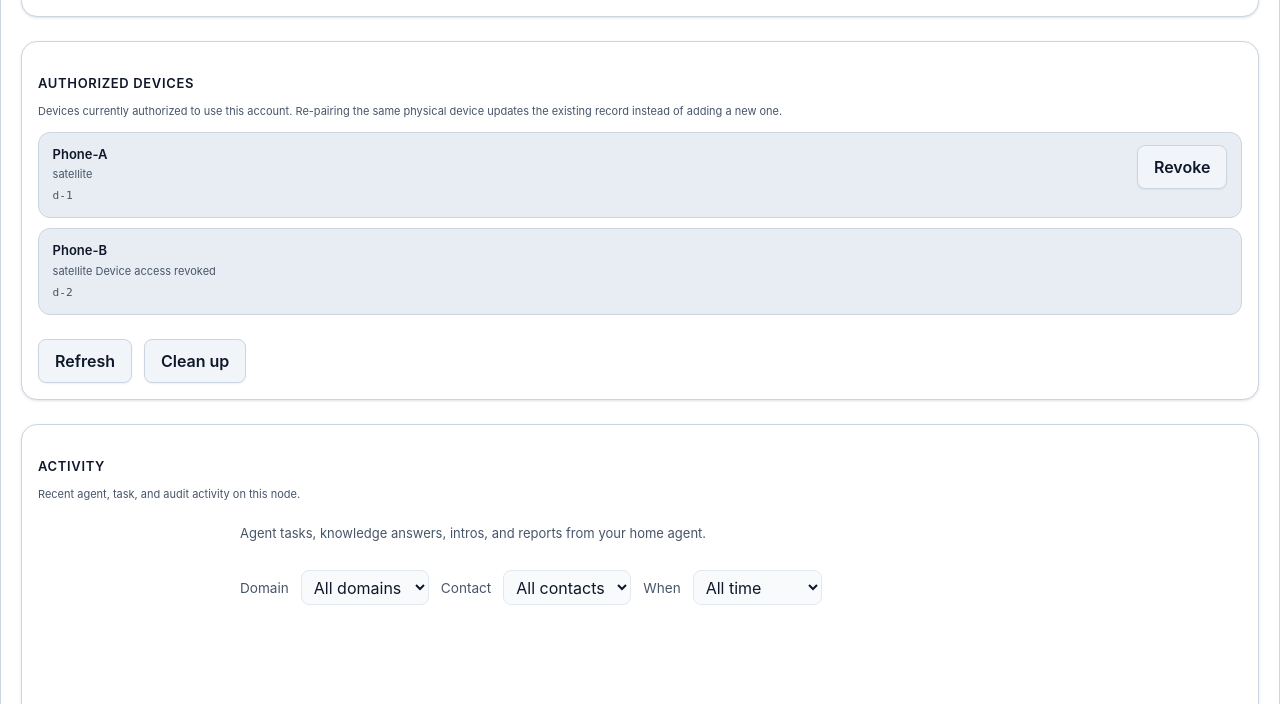
it: SettingsAppTab (Language / Appearance / Authorized Devices / Activity) › also prunes already-revoked entries from the list
The image size is (1280, 704).
(page scrolled)
Expected: the text "Phone-A" is shown, left=53, top=146, right=108, bottom=162
Click the button "Clean up" at point(195, 361), box left=144, top=339, right=246, bottom=383
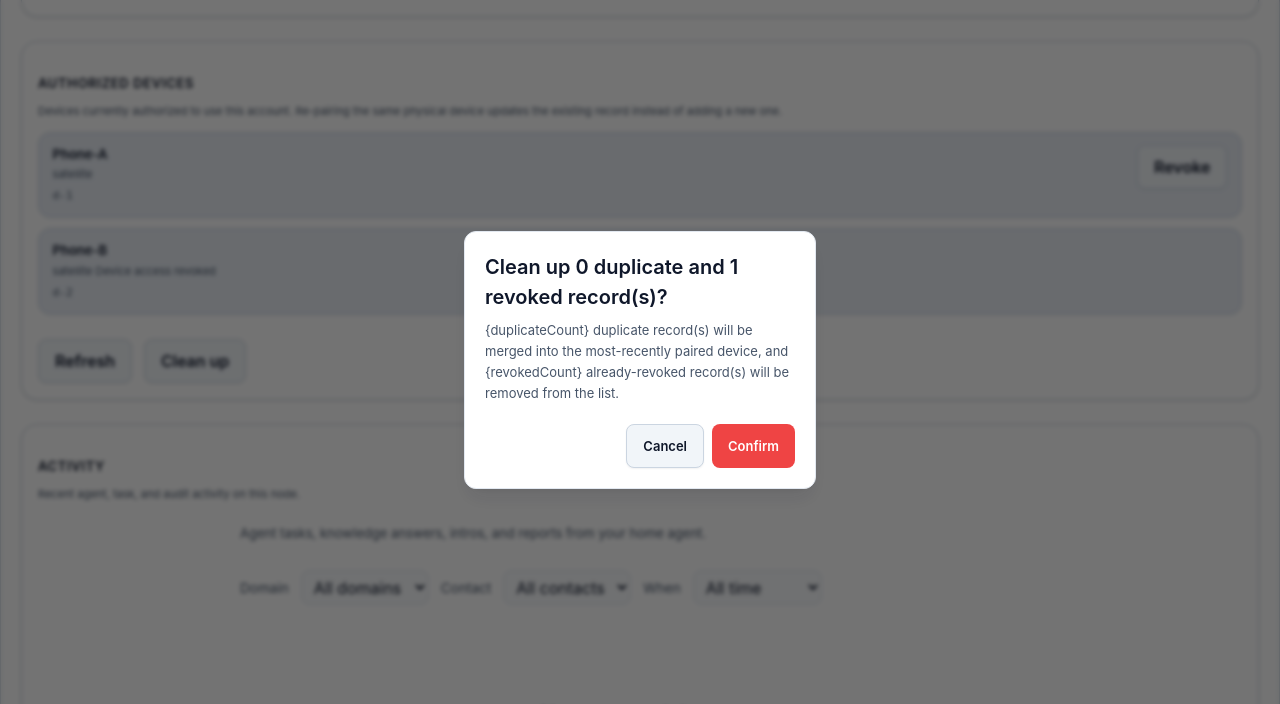
ConfirmDialog appears — click the confirm button
Click the button "Confirm" at point(754, 446), box left=712, top=424, right=795, bottom=468
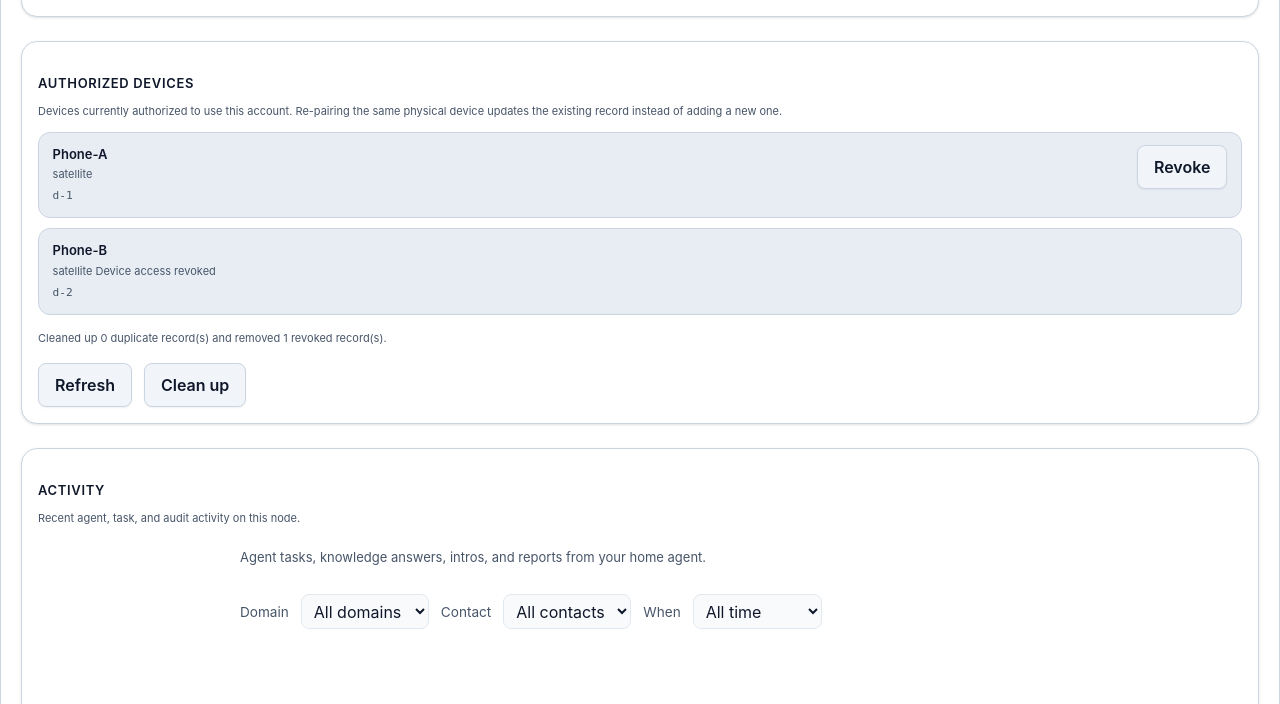
Expected: the text "Cleaned up 0 duplicate record(s) and removed 1 revoked record(s)." is shown, left=38, top=331, right=387, bottom=345
